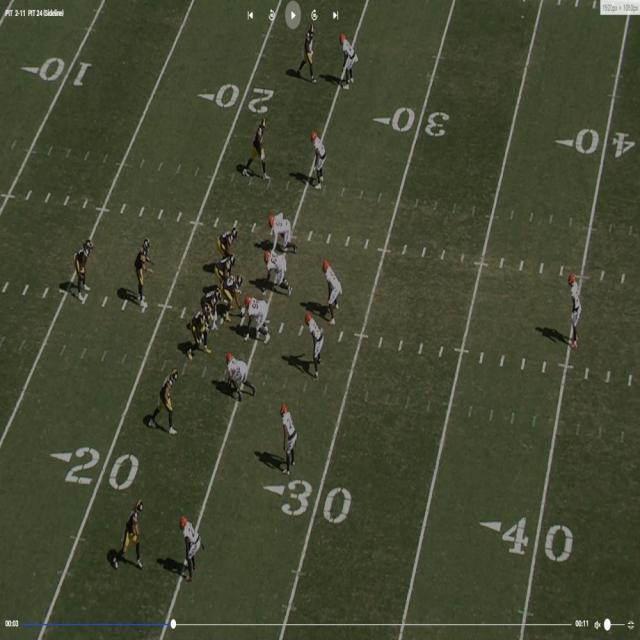center: (222, 275, 240, 323)
db: (568, 273, 582, 352), (180, 518, 196, 576), (282, 403, 295, 473), (164, 371, 178, 433), (311, 130, 325, 189), (342, 36, 356, 83)
lb: (306, 312, 323, 373), (325, 260, 342, 318)
qb: (134, 240, 151, 317)
skill: (122, 501, 140, 561), (74, 238, 93, 293), (298, 22, 316, 80), (255, 118, 268, 173)
